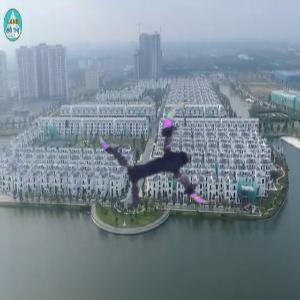drone: (108, 102, 230, 224)
